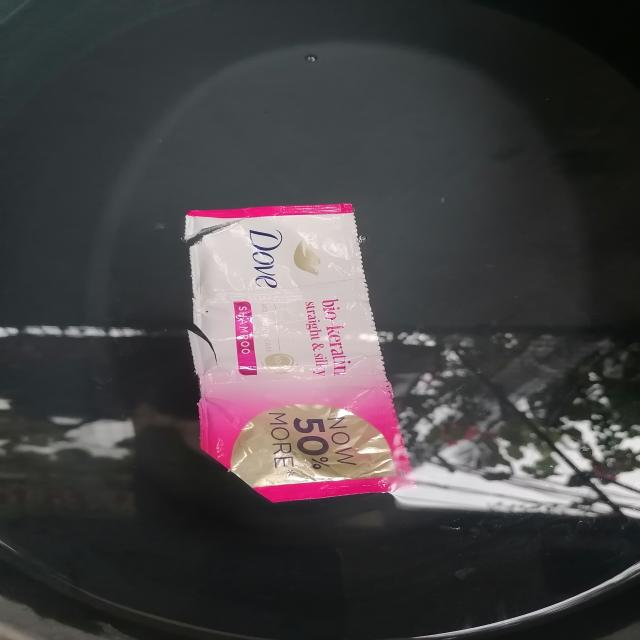Plastic Wrapper: (184, 203, 412, 524)
